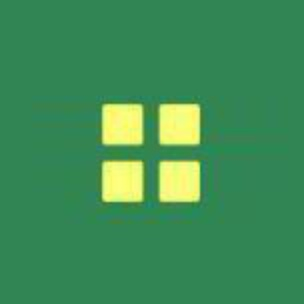ImgButton: (1, 1, 303, 303)
